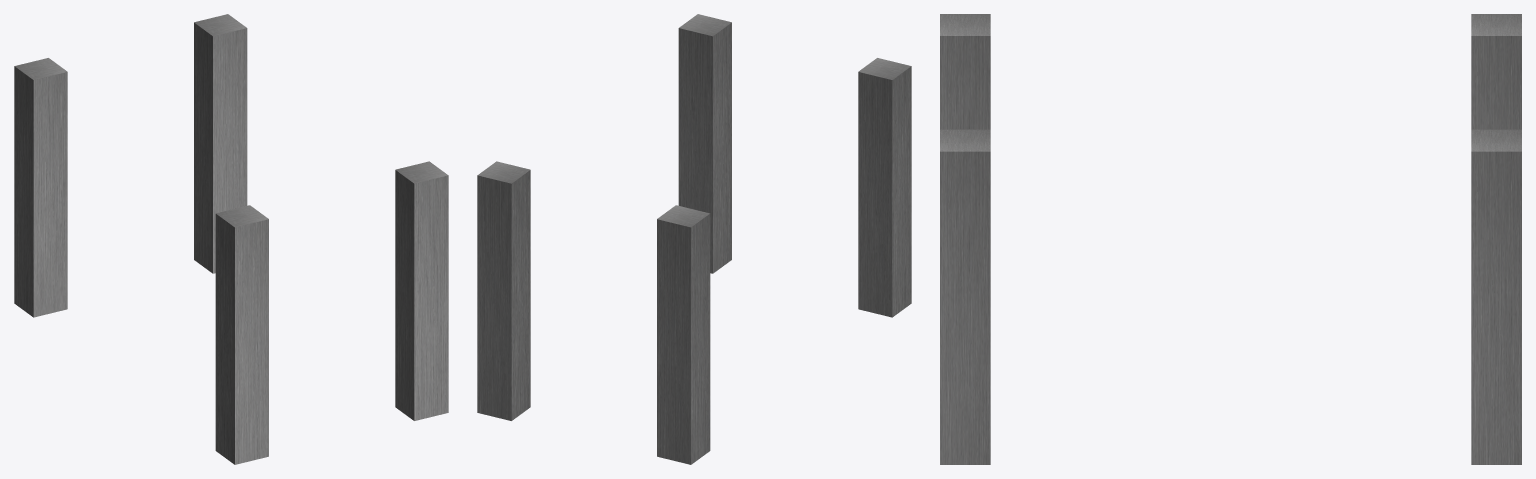
Rendered from PatasMetal.glb.
3 renders of one model, left to right at view 1: azimuth 30°, elevation 25°; view 2: azimuth 150°, elevation 25°; view 3: azimuth 270°, elevation 25°, orthographic. The views are drawn at different scales.
Visible parts, largest first — view 1: Cube, Cube.001, Cube.002, Cube.003; view 2: Cube, Cube.002, Cube.003, Cube.001; view 3: Cube.001, Cube.003, Cube, Cube.002.
Boxes of the visible parts, bbox=[...] form: Cube: bbox=[215, 205, 268, 464]; Cube.001: bbox=[395, 161, 448, 420]; Cube.002: bbox=[14, 58, 67, 317]; Cube.003: bbox=[194, 14, 247, 273]; Cube: bbox=[858, 58, 911, 317]; Cube.002: bbox=[657, 205, 710, 464]; Cube.003: bbox=[477, 161, 530, 420]; Cube.001: bbox=[678, 14, 731, 273]; Cube.001: bbox=[940, 129, 990, 464]; Cube.003: bbox=[1471, 129, 1521, 464]; Cube: bbox=[940, 14, 990, 129]; Cube.002: bbox=[1471, 14, 1521, 129].
Size of the model in its own units: 1.88 by 2 by 3.37.
Materials: 4 (4 with a texture image).
